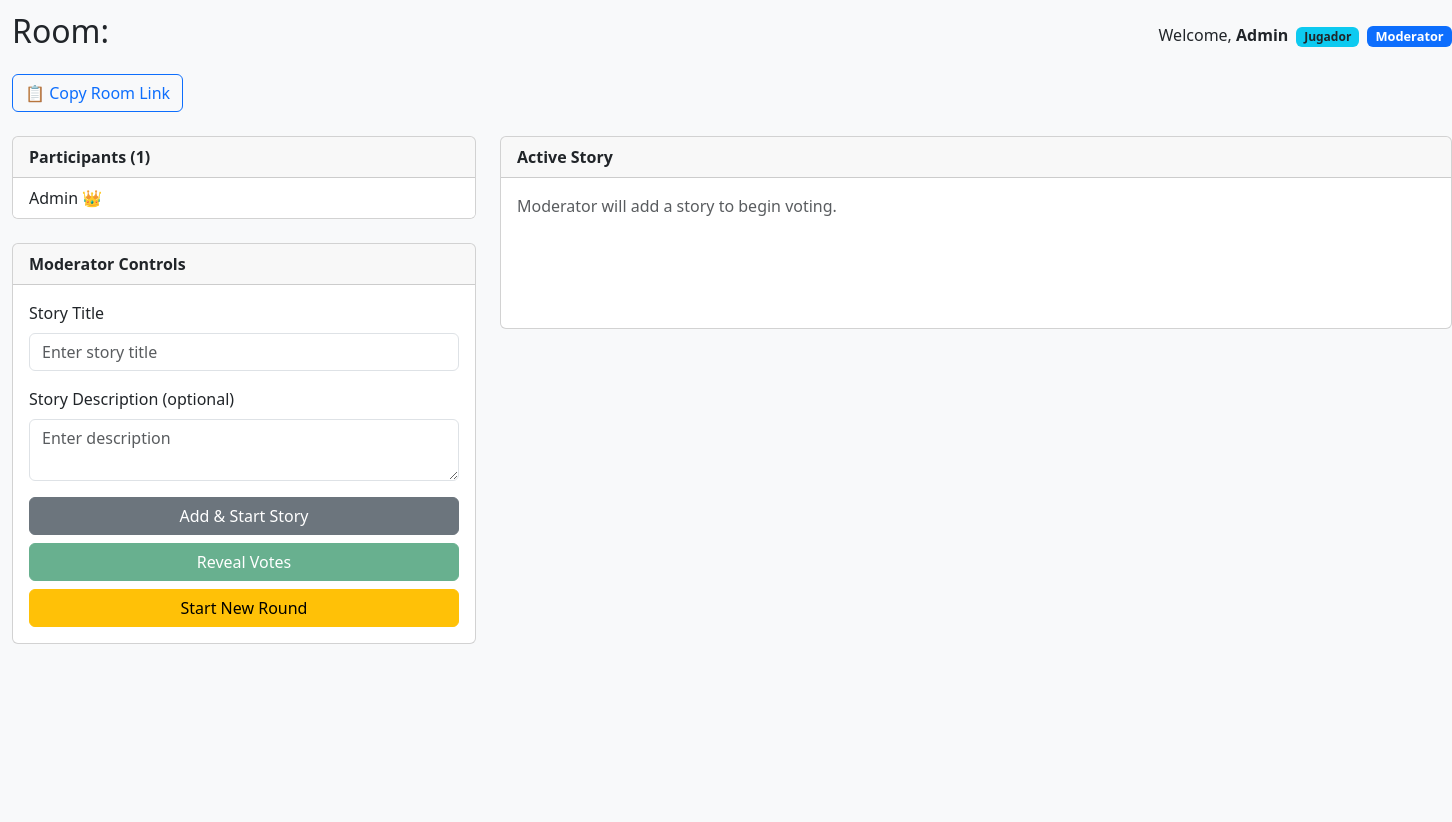
it: RoomPage Component › allows a moderator to add a new story
This screenshot has width=1452, height=822.
# Add a new story
In the field labelled "Story Title": coordinates (244, 352) x1=29 y1=333 x2=459 y2=371, type "My New Story"
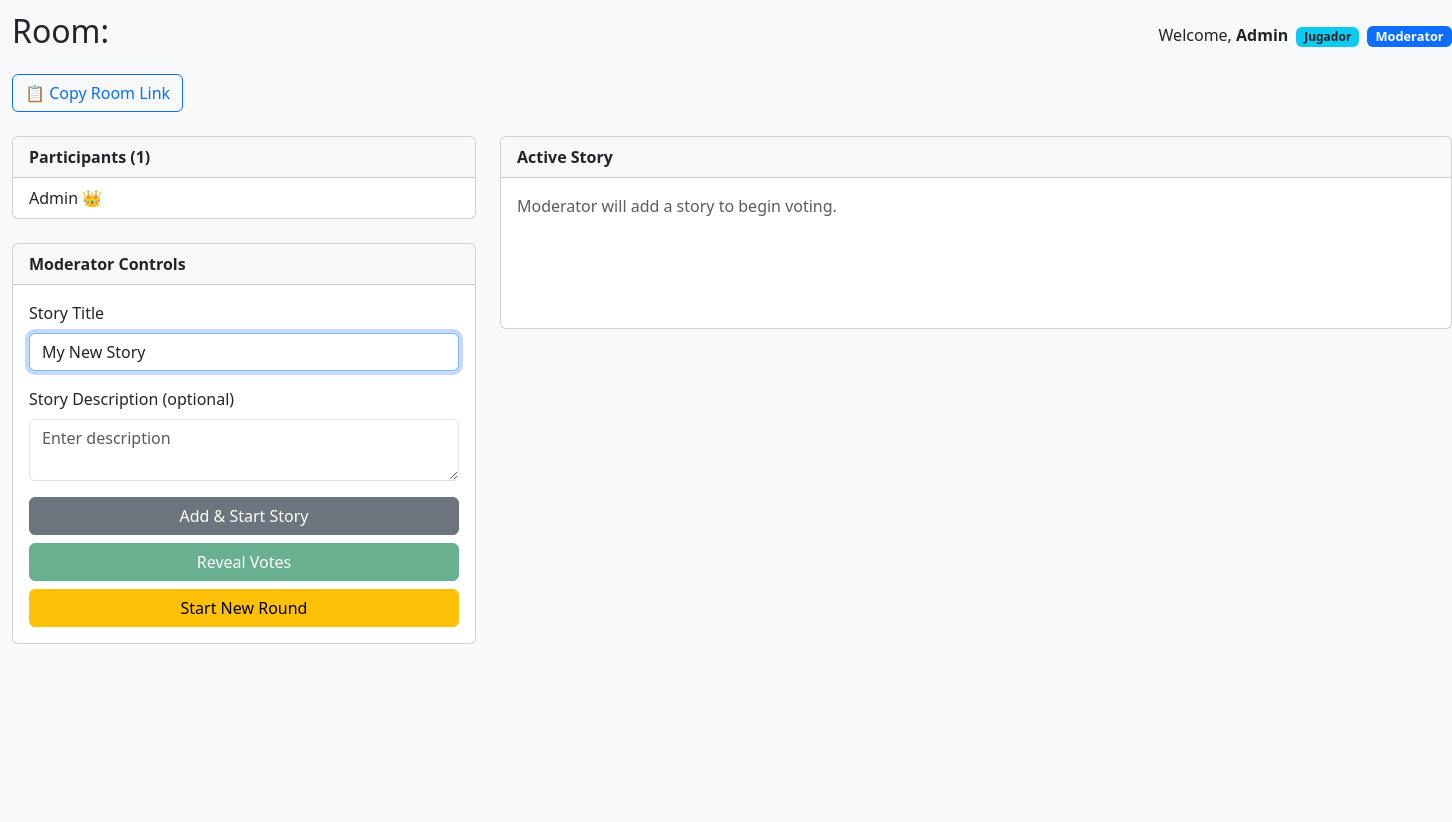
Click the button "Add & Start Story": coordinates (244, 516) x1=29 y1=497 x2=459 y2=535
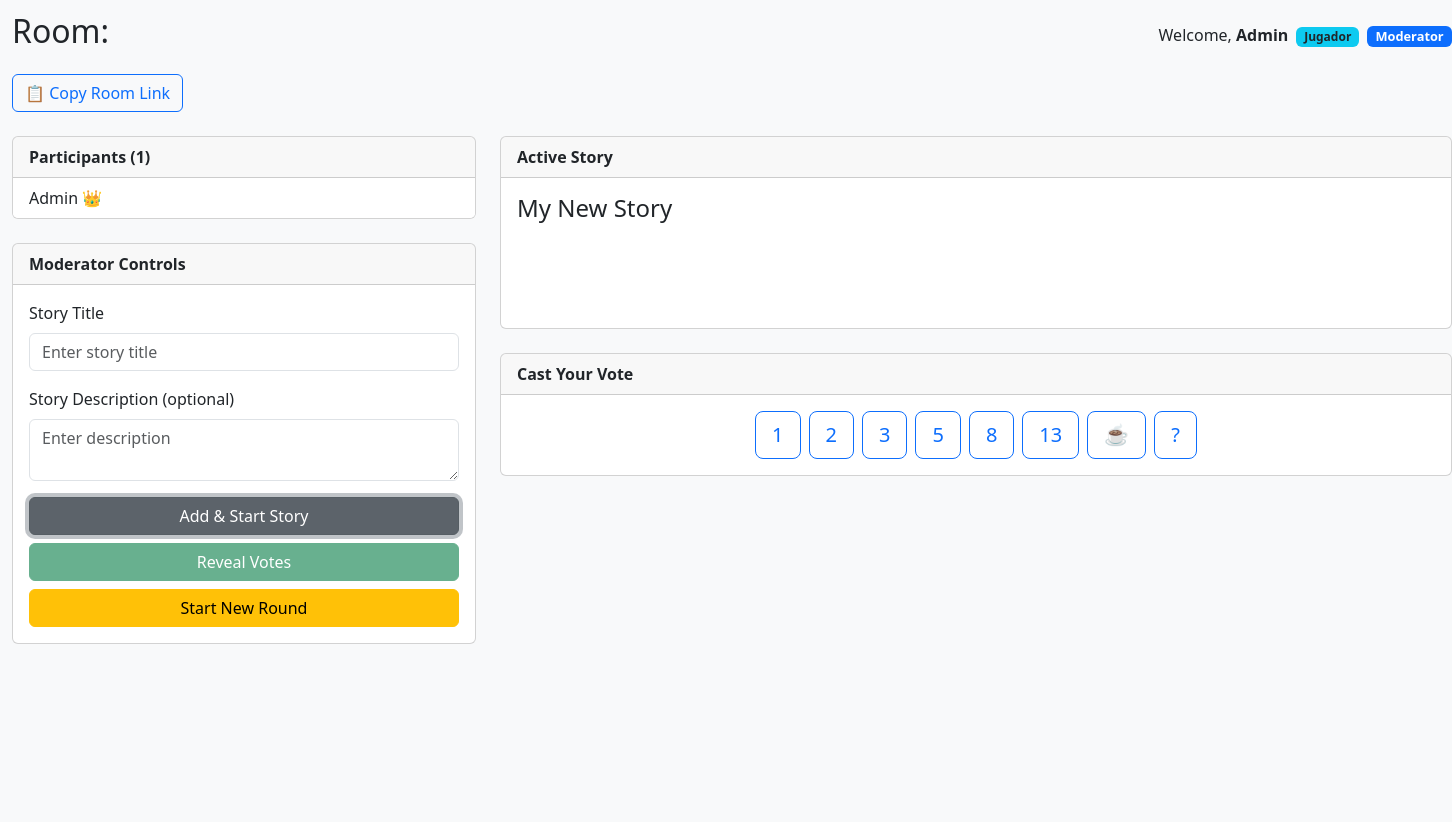
Check: the heading "My New Story" is shown, box x1=517 y1=191 x2=672 y2=224
